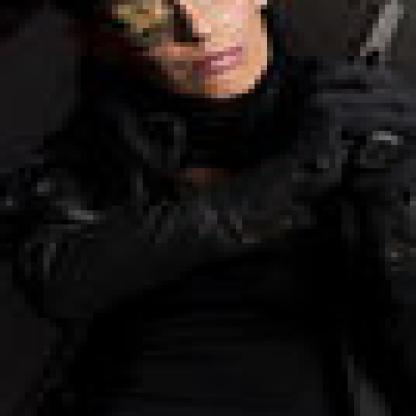gun: (329, 0, 410, 187)
